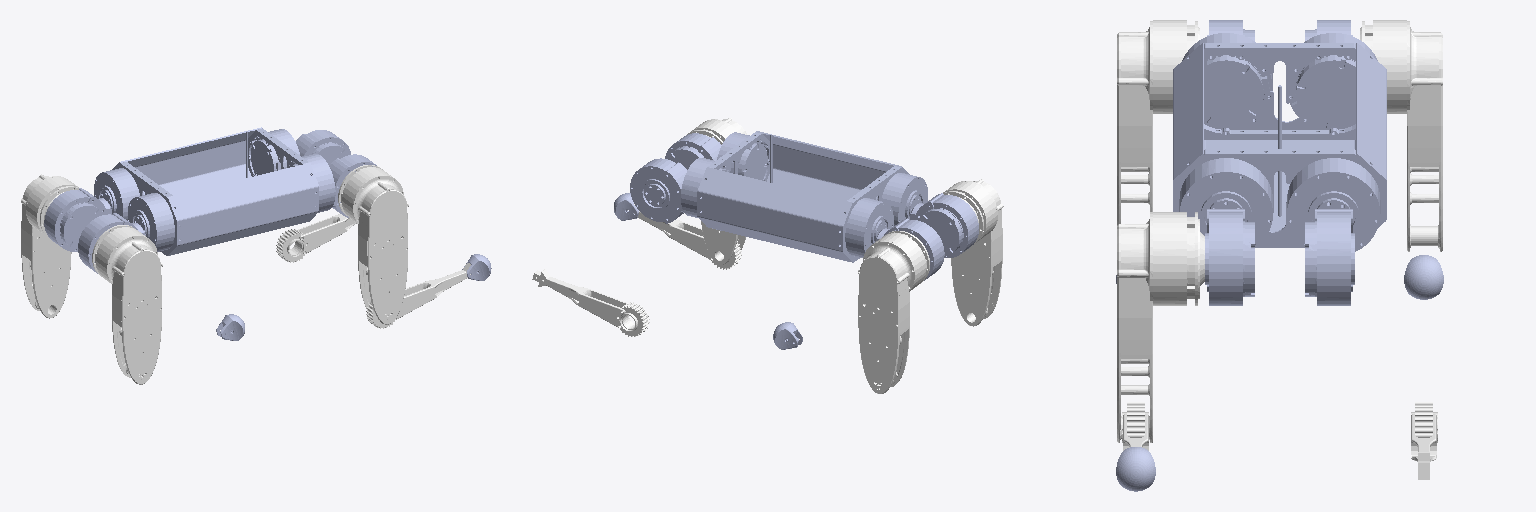
robot.urdf — fanfan:
<?xml version='1.0' encoding='utf-8'?>
<robot name="fanfan">
  <link name="world" />
  <joint name="floating_base" type="floating">
    <parent link="world" />
    <child link="Trunk" />
  </joint>
  <link name="Trunk">
    <inertial>
      <origin xyz="0 0 0.0120765704393" rpy="0 0 0" />
      <mass value="2.76230213761" />
      <inertia ixx="0.0065190710329" ixy="0" ixz="0" iyy="0.0146671285145" iyz="0" izz="0.0173738799354" />
    </inertial>
    <visual>
      <origin xyz="0 0 0.017" rpy="0 0 0" />
      <geometry>
        <mesh filename="meshes/Trunk.STL" />
      </geometry>
      <material name="">
        <color rgba="0.792156862745098 0.819607843137255 0.933333333333333 1" />
      </material>
    </visual>
    <collision>
      <origin xyz="0 0 0.017" rpy="0 0 0" />
      <geometry>
        <box size="0.34 0.095 0.10" />
      </geometry>
    </collision>
  </link>
  <link name="FR_hip">
    <inertial>
      <origin xyz="-0.0044 0.0031 0" rpy="0 0 0" />
      <mass value="0.402084676173" />
      <inertia ixx="0.000211999145512" ixy="0" ixz="0" iyy="0.00030578539623" iyz="0" izz="0.000211999145512" />
    </inertial>
    <visual>
      <origin xyz="0 0 0" rpy="0 0 0" />
      <geometry>
        <mesh filename="meshes/FR_hip.STL" />
      </geometry>
      <material name="">
        <color rgba="0.792156862745098 0.819607843137255 0.933333333333333 1" />
      </material>
    </visual>
    <collision>
      <origin xyz="-0.0044 0.0031 0" rpy="1.57079632679 0 0" />
      <geometry>
        <cylinder radius="0.039" length="0.042" />
      </geometry>
    </collision>
  </link>
  <joint name="FR_hip_joint" type="revolute">
    <origin xyz="0.19 -0.0451 0.00075" rpy="0 0 0" />
    <parent link="Trunk" />
    <child link="FR_hip" />
    <axis xyz="1 0 0" />
    <limit lower="-0.8" upper="0.8" effort="17" velocity="44" />
  </joint>
  <link name="FR_thigh_shoulder">
    <inertial>
      <origin xyz="0 0 0" rpy="0 0 0" />
      <mass value="0.0001" />
      <inertia ixx="1e-8" ixy="0" ixz="0" iyy="1e-8" iyz="0" izz="1e-8" />
    </inertial>
    <collision>
      <origin xyz="0 0 0" rpy="1.57079632679 0 0" />
      <geometry>
        <cylinder radius="0.039" length="0.042" />
      </geometry>
    </collision>
  </link>
  <joint name="FR_hip_fixed" type="fixed">
    <origin xyz="0 -0.0545 0" rpy="0 0 0" />
    <parent link="FR_hip" />
    <child link="FR_thigh_shoulder" />
    <axis xyz="0 0 0" />
  </joint>
  <link name="FR_thigh">
    <inertial>
      <origin xyz="0 0 -0.0845" rpy="0 0 0" />
      <mass value="0.599413010273" />
      <inertia ixx="0.0014716088913" ixy="0" ixz="0" iyy="0.00150657465024" iyz="0" izz="0.000124877710473" />
    </inertial>
    <visual>
      <origin xyz="0 0 0" rpy="0 0 0" />
      <geometry>
        <mesh filename="meshes/FR_thigh.STL" />
      </geometry>
      <material name="">
        <color rgba="1 1 1 1" />
      </material>
    </visual>
    <collision>
      <origin xyz="0 0 -0.0845" rpy="0 1.57079632679 0" />
      <geometry>
        <box size="0.176 0.024 0.030" />
      </geometry>
    </collision>
  </link>
  <joint name="FR_thigh_joint" type="revolute">
    <origin xyz="0 -0.076 0" rpy="0 0 0" />
    <parent link="FR_hip" />
    <child link="FR_thigh" />
    <axis xyz="0 1 0" />
    <limit lower="-0.5" upper="4" effort="17" velocity="44" />
  </joint>
  <link name="FR_calf">
    <inertial>
      <origin xyz="0 -0.0005 -0.075" rpy="0 0 0" />
      <mass value="0.0807981096891" />
      <inertia ixx="0.000153678004629" ixy="0" ixz="0" iyy="0.000153678004629" iyz="0" izz="4.36309792321e-06" />
    </inertial>
    <visual>
      <origin xyz="0 0 0" rpy="0 0 0" />
      <geometry>
        <mesh filename="meshes/FR_calf.STL" />
      </geometry>
      <material name="">
        <color rgba="1 1 1 1" />
      </material>
    </visual>
    <collision>
      <origin xyz="0 -0.0005 -0.075" rpy="0 1.57079632679 0" />
      <geometry>
        <box size="0.158 0.014 0.014" />
      </geometry>
    </collision>
  </link>
  <joint name="FR_calf_joint" type="revolute">
    <origin xyz="0 0.0005 -0.15606" rpy="0 0 0" />
    <parent link="FR_thigh" />
    <child link="FR_calf" />
    <axis xyz="0 1 0" />
    <limit lower="-2.7" upper="-0.85" effort="17" velocity="44" />
  </joint>
  <link name="FR_foot">
    <inertial>
      <origin xyz="0 0 0" rpy="0 0 0" />
      <mass value="0.0376582318027" />
      <inertia ixx="4.88050684164e-06" ixy="0" ixz="0" iyy="4.88050684164e-06" iyz="0" izz="4.88050684164e-06" />
    </inertial>
    <visual>
      <origin xyz="0 0 0" rpy="0 0 0" />
      <geometry>
        <mesh filename="meshes/FR_foot.STL" />
      </geometry>
      <material name="">
        <color rgba="0.792156862745098 0.819607843137255 0.933333333333333 1" />
      </material>
    </visual>
    <collision>
      <origin xyz="0 0 0" rpy="0 0 0" />
      <geometry>
        <sphere radius="0.018" />
      </geometry>
    </collision>
  </link>
  <joint name="FR_foot_fixed" type="fixed">
    <origin xyz="0 0 -0.148941836101256" rpy="0 0 0" />
    <parent link="FR_calf" />
    <child link="FR_foot" />
    <axis xyz="0 0 0" />
  </joint>
  <link name="FL_hip">
    <inertial>
      <origin xyz="-0.0044 -0.0031 0" rpy="0 0 0" />
      <mass value="0.402084676173" />
      <inertia ixx="0.000211999145512" ixy="0" ixz="0" iyy="0.00030578539623" iyz="0" izz="0.000211999145512" />
    </inertial>
    <visual>
      <origin xyz="0 0 0" rpy="0 0 0" />
      <geometry>
        <mesh filename="meshes/FL_hip.STL" />
      </geometry>
      <material name="">
        <color rgba="0.792156862745098 0.819607843137255 0.933333333333333 1" />
      </material>
    </visual>
    <collision>
      <origin xyz="-0.0044 -0.0031 0" rpy="1.57079632679 0 0" />
      <geometry>
        <cylinder radius="0.039" length="0.042" />
      </geometry>
    </collision>
  </link>
  <joint name="FL_hip_joint" type="revolute">
    <origin xyz="0.19 0.0451 0.00075" rpy="0 0 0" />
    <parent link="Trunk" />
    <child link="FL_hip" />
    <axis xyz="1 0 0" />
    <limit lower="-0.8" upper="0.8" effort="17" velocity="44" />
  </joint>
  <link name="FL_thigh_shoulder">
    <inertial>
      <origin xyz="0 0 0" rpy="0 0 0" />
      <mass value="0.0001" />
      <inertia ixx="1e-8" ixy="0" ixz="0" iyy="1e-8" iyz="0" izz="1e-8" />
    </inertial>
    <collision>
      <origin xyz="0 0 0" rpy="1.57079632679 0 0" />
      <geometry>
        <cylinder radius="0.039" length="0.042" />
      </geometry>
    </collision>
  </link>
  <joint name="FL_hip_fixed" type="fixed">
    <origin xyz="0 0.0545 0" rpy="0 0 0" />
    <parent link="FL_hip" />
    <child link="FL_thigh_shoulder" />
    <axis xyz="0 0 0" />
  </joint>
  <link name="FL_thigh">
    <inertial>
      <origin xyz="0 0 -0.0845" rpy="0 0 0" />
      <mass value="0.599405347289" />
      <inertia ixx="0.00147159007804" ixy="0" ixz="0" iyy="0.00150655538996" iyz="0" izz="0.000124876114018" />
    </inertial>
    <visual>
      <origin xyz="0 0 0" rpy="0 0 0" />
      <geometry>
        <mesh filename="meshes/FL_thigh.STL" />
      </geometry>
      <material name="">
        <color rgba="1 1 1 1" />
      </material>
    </visual>
    <collision>
      <origin xyz="0 0 -0.0845" rpy="0 1.57079632679 0" />
      <geometry>
        <box size="0.176 0.024 0.030" />
      </geometry>
    </collision>
  </link>
  <joint name="FL_thigh_joint" type="revolute">
    <origin xyz="0 0.076 0" rpy="0 0 0" />
    <parent link="FL_hip" />
    <child link="FL_thigh" />
    <axis xyz="0 1 0" />
    <limit lower="-0.5" upper="4" effort="17" velocity="44" />
  </joint>
  <link name="FL_calf">
    <inertial>
      <origin xyz="0 0.0005 -0.075" rpy="0 0 0" />
      <mass value="0.0807981096891" />
      <inertia ixx="0.000153678004629" ixy="0" ixz="0" iyy="0.000153678004629" iyz="0" izz="4.36309792321e-06" />
    </inertial>
    <visual>
      <origin xyz="0 0 0" rpy="0 0 0" />
      <geometry>
        <mesh filename="meshes/FL_calf.STL" />
      </geometry>
      <material name="">
        <color rgba="1 1 1 1" />
      </material>
    </visual>
    <collision>
      <origin xyz="0 0.0005 -0.075" rpy="0 1.57079632679 0" />
      <geometry>
        <box size="0.158 0.014 0.014" />
      </geometry>
    </collision>
  </link>
  <joint name="FL_calf_joint" type="revolute">
    <origin xyz="0 -0.0005 -0.15606" rpy="0 0 0" />
    <parent link="FL_thigh" />
    <child link="FL_calf" />
    <axis xyz="0 1 0" />
    <limit lower="-2.7" upper="-0.85" effort="17" velocity="44" />
  </joint>
  <link name="FL_foot">
    <inertial>
      <origin xyz="0 0 0" rpy="0 0 0" />
      <mass value="0.0376582318027" />
      <inertia ixx="4.88050684164e-06" ixy="0" ixz="0" iyy="4.88050684164e-06" iyz="0" izz="4.88050684164e-06" />
    </inertial>
    <visual>
      <origin xyz="0 0 0" rpy="0 0 0" />
      <geometry>
        <mesh filename="meshes/FL_foot.STL" />
      </geometry>
      <material name="">
        <color rgba="0.792156862745098 0.819607843137255 0.933333333333333 1" />
      </material>
    </visual>
    <collision>
      <origin xyz="0 0 0" rpy="0 0 0" />
      <geometry>
        <sphere radius="0.018" />
      </geometry>
    </collision>
  </link>
  <joint name="FL_foot_fixed" type="fixed">
    <origin xyz="0 0 -0.148941836101256" rpy="0 0 0" />
    <parent link="FL_calf" />
    <child link="FL_foot" />
    <axis xyz="0 0 0" />
  </joint>
  <link name="RR_hip">
    <inertial>
      <origin xyz="0.0044 0.0031 0" rpy="0 0 0" />
      <mass value="0.402084676173" />
      <inertia ixx="0.000211999145512" ixy="0" ixz="0" iyy="0.00030578539623" iyz="0" izz="0.000211999145512" />
    </inertial>
    <visual>
      <origin xyz="0 0 0" rpy="0 0 0" />
      <geometry>
        <mesh filename="meshes/RR_hip.STL" />
      </geometry>
      <material name="">
        <color rgba="0.792156862745098 0.819607843137255 0.933333333333333 1" />
      </material>
    </visual>
    <collision>
      <origin xyz="0.0044 0.0031 0" rpy="1.57079632679 0 0" />
      <geometry>
        <cylinder radius="0.039" length="0.042" />
      </geometry>
    </collision>
  </link>
  <joint name="RR_hip_joint" type="revolute">
    <origin xyz="-0.19 -0.0451 0.00075" rpy="0 0 0" />
    <parent link="Trunk" />
    <child link="RR_hip" />
    <axis xyz="1 0 0" />
    <limit lower="-0.8" upper="0.8" effort="17" velocity="44" />
  </joint>
  <link name="RR_thigh_shoulder">
    <inertial>
      <origin xyz="0 0 0" rpy="0 0 0" />
      <mass value="0.0001" />
      <inertia ixx="1e-8" ixy="0" ixz="0" iyy="1e-8" iyz="0" izz="1e-8" />
    </inertial>
    <collision>
      <origin xyz="0 0 0" rpy="1.57079632679 0 0" />
      <geometry>
        <cylinder radius="0.039" length="0.042" />
      </geometry>
    </collision>
  </link>
  <joint name="RR_hip_fixed" type="fixed">
    <origin xyz="0 -0.0545 0" rpy="0 0 0" />
    <parent link="RR_hip" />
    <child link="RR_thigh_shoulder" />
    <axis xyz="0 0 0" />
  </joint>
  <link name="RR_thigh">
    <inertial>
      <origin xyz="0 0 -0.0845" rpy="0 0 0" />
      <mass value="0.599413010273" />
      <inertia ixx="0.0014716088913" ixy="0" ixz="0" iyy="0.00150657465024" iyz="0" izz="0.000124877710473" />
    </inertial>
    <visual>
      <origin xyz="0 0 0" rpy="0 0 0" />
      <geometry>
        <mesh filename="meshes/RR_thigh.STL" />
      </geometry>
      <material name="">
        <color rgba="1 1 1 1" />
      </material>
    </visual>
    <collision>
      <origin xyz="0 0 -0.0845" rpy="0 1.57079632679 0" />
      <geometry>
        <box size="0.176 0.024 0.030" />
      </geometry>
    </collision>
  </link>
  <joint name="RR_thigh_joint" type="revolute">
    <origin xyz="0 -0.076 0" rpy="0 0 0" />
    <parent link="RR_hip" />
    <child link="RR_thigh" />
    <axis xyz="0 1 0" />
    <limit lower="-0.5" upper="4" effort="17" velocity="44" />
  </joint>
  <link name="RR_calf">
    <inertial>
      <origin xyz="0 -0.0005 -0.075" rpy="0 0 0" />
      <mass value="0.0807981096891" />
      <inertia ixx="0.000153678004629" ixy="0" ixz="0" iyy="0.000153678004629" iyz="0" izz="4.36309792321e-06" />
    </inertial>
    <visual>
      <origin xyz="0 0 0" rpy="0 0 0" />
      <geometry>
        <mesh filename="meshes/RR_calf.STL" />
      </geometry>
      <material name="">
        <color rgba="1 1 1 1" />
      </material>
    </visual>
    <collision>
      <origin xyz="0 -0.0005 -0.075" rpy="0 1.57079632679 0" />
      <geometry>
        <box size="0.158 0.014 0.014" />
      </geometry>
    </collision>
  </link>
  <joint name="RR_calf_joint" type="revolute">
    <origin xyz="0 0.0005 -0.15606" rpy="0 0 0" />
    <parent link="RR_thigh" />
    <child link="RR_calf" />
    <axis xyz="0 1 0" />
    <limit lower="-2.7" upper="-0.85" effort="17" velocity="44" />
  </joint>
  <link name="RR_foot">
    <inertial>
      <origin xyz="0 0 0" rpy="0 0 0" />
      <mass value="0.0376582318027" />
      <inertia ixx="4.88050684164e-06" ixy="0" ixz="0" iyy="4.88050684164e-06" iyz="0" izz="4.88050684164e-06" />
    </inertial>
    <visual>
      <origin xyz="0 0 0" rpy="0 0 0" />
      <geometry>
        <mesh filename="meshes/RR_foot.STL" />
      </geometry>
      <material name="">
        <color rgba="0.792156862745098 0.819607843137255 0.933333333333333 1" />
      </material>
    </visual>
    <collision>
      <origin xyz="0 0 0" rpy="0 0 0" />
      <geometry>
        <sphere radius="0.018" />
      </geometry>
    </collision>
  </link>
  <joint name="RR_foot_fixed" type="fixed">
    <origin xyz="0 0 -0.14894" rpy="0 0 0" />
    <parent link="RR_calf" />
    <child link="RR_foot" />
    <axis xyz="0 0 0" />
  </joint>
  <link name="RL_hip">
    <inertial>
      <origin xyz="0.0044 -0.0031 0" rpy="0 0 0" />
      <mass value="0.402084676173" />
      <inertia ixx="0.000211999145512" ixy="0" ixz="0" iyy="0.00030578539623" iyz="0" izz="0.000211999145512" />
    </inertial>
    <visual>
      <origin xyz="0 0 0" rpy="0 0 0" />
      <geometry>
        <mesh filename="meshes/RL_hip.STL" />
      </geometry>
      <material name="">
        <color rgba="0.792156862745098 0.819607843137255 0.933333333333333 1" />
      </material>
    </visual>
    <collision>
      <origin xyz="0.0044 -0.0031 0" rpy="1.57079632679 0 0" />
      <geometry>
        <cylinder radius="0.039" length="0.042" />
      </geometry>
    </collision>
  </link>
  <joint name="RL_hip_joint" type="revolute">
    <origin xyz="-0.19 0.0451 0.00075" rpy="0 0 0" />
    <parent link="Trunk" />
    <child link="RL_hip" />
    <axis xyz="1 0 0" />
    <limit lower="-0.8" upper="0.8" effort="17" velocity="44" />
  </joint>
  <link name="RL_thigh_shoulder">
    <inertial>
      <origin xyz="0 0 0" rpy="0 0 0" />
      <mass value="0.0001" />
      <inertia ixx="1e-8" ixy="0" ixz="0" iyy="1e-8" iyz="0" izz="1e-8" />
    </inertial>
    <collision>
      <origin xyz="0 0 0" rpy="1.57079632679 0 0" />
      <geometry>
        <cylinder radius="0.039" length="0.042" />
      </geometry>
    </collision>
  </link>
  <joint name="RL_hip_fixed" type="fixed">
    <origin xyz="0 0.0545 0" rpy="0 0 0" />
    <parent link="RL_hip" />
    <child link="RL_thigh_shoulder" />
    <axis xyz="0 0 0" />
  </joint>
  <link name="RL_thigh">
    <inertial>
      <origin xyz="0 0 -0.0845" rpy="0 0 0" />
      <mass value="0.599405347289" />
      <inertia ixx="0.00147159007804" ixy="0" ixz="0" iyy="0.00150655538996" iyz="0" izz="0.000124876114018" />
    </inertial>
    <visual>
      <origin xyz="0 0 0" rpy="0 0 0" />
      <geometry>
        <mesh filename="meshes/RL_thigh.STL" />
      </geometry>
      <material name="">
        <color rgba="1 1 1 1" />
      </material>
    </visual>
    <collision>
      <origin xyz="0 0 -0.0845" rpy="0 1.57079632679 0" />
      <geometry>
        <box size="0.176 0.024 0.030" />
      </geometry>
    </collision>
  </link>
  <joint name="RL_thigh_joint" type="revolute">
    <origin xyz="0 0.076 0" rpy="0 0 0" />
    <parent link="RL_hip" />
    <child link="RL_thigh" />
    <axis xyz="0 1 0" />
    <limit lower="-0.5" upper="4" effort="17" velocity="44" />
  </joint>
  <link name="RL_calf">
    <inertial>
      <origin xyz="0 0.0005 -0.075" rpy="0 0 0" />
      <mass value="0.0807981096891" />
      <inertia ixx="0.000153678004629" ixy="0" ixz="0" iyy="0.000153678004629" iyz="0" izz="4.36309792321e-06" />
    </inertial>
    <visual>
      <origin xyz="0 0 0" rpy="0 0 0" />
      <geometry>
        <mesh filename="meshes/RL_calf.STL" />
      </geometry>
      <material name="">
        <color rgba="1 1 1 1" />
      </material>
    </visual>
    <collision>
      <origin xyz="0 0.0005 -0.075" rpy="0 1.57079632679 0" />
      <geometry>
        <box size="0.158 0.014 0.014" />
      </geometry>
    </collision>
  </link>
  <joint name="RL_calf_joint" type="revolute">
    <origin xyz="0 -0.0005 -0.15606" rpy="0 0 0" />
    <parent link="RL_thigh" />
    <child link="RL_calf" />
    <axis xyz="0 1 0" />
    <limit lower="-2.7" upper="-0.85" effort="17" velocity="44" />
  </joint>
  <link name="RL_foot">
    <inertial>
      <origin xyz="0 0 0" rpy="0 0 0" />
      <mass value="0.0376582318027" />
      <inertia ixx="4.88050684164e-06" ixy="0" ixz="0" iyy="4.88050684164e-06" iyz="0" izz="4.88050684164e-06" />
    </inertial>
    <visual>
      <origin xyz="0 0 0" rpy="0 0 0" />
      <geometry>
        <mesh filename="meshes/RL_foot.STL" />
      </geometry>
      <material name="">
        <color rgba="0.792156862745098 0.819607843137255 0.933333333333333 1" />
      </material>
    </visual>
    <collision>
      <origin xyz="0 0 0" rpy="0 0 0" />
      <geometry>
        <sphere radius="0.018" />
      </geometry>
    </collision>
  </link>
  <joint name="RL_foot_fixed" type="fixed">
    <origin xyz="0 0 -0.14894" rpy="0 0 0" />
    <parent link="RL_calf" />
    <child link="RL_foot" />
    <axis xyz="0 0 0" />
  </joint>
  <link name="imu_link">
    <inertial>
      <origin xyz="0 0 0" rpy="0 0 0" />
      <mass value="5.54081439677e-05" />
      <inertia ixx="9.23469066128e-11" ixy="0" ixz="0" iyy="9.23469066128e-11" iyz="0" izz="1.4775505058e-10" />
    </inertial>
    <visual>
      <origin xyz="0 0 0" rpy="0 0 0" />
      <geometry>
        <mesh filename="meshes/imu_link.STL" />
      </geometry>
      <material name="">
        <color rgba="0.792156862745098 0.819607843137255 0.933333333333333 1" />
      </material>
    </visual>
    <collision>
      <origin xyz="0 0 0" rpy="0 0 0" />
      <geometry>
        <box size="0.004 0.004 0.002" />
      </geometry>
    </collision>
  </link>
  <joint name="imu_fixed" type="fixed">
    <origin xyz="0 0 0" rpy="0 0 0" />
    <parent link="Trunk" />
    <child link="imu_link" />
    <axis xyz="0 0 0" />
  </joint>
</robot>

--- Render facts (derived) ---
3 views of the same robot in one strip: view 1: azimuth 30°, elevation 25°; view 2: azimuth 150°, elevation 25°; view 3: azimuth 270°, elevation 25° (orthographic).
Robot: fanfan — 23 links, 22 joints (12 revolute, 9 fixed, 1 floating); root link world; default pose: all joints at 0 but 4 set to mid-range because 0 is outside their limits (FR_calf_joint = -1.77, FL_calf_joint = -1.77, RR_calf_joint = -1.77, RL_calf_joint = -1.77).
Links seen in each view (by area): view 1: Trunk, RR_thigh, FR_thigh, RL_thigh, RL_hip, FL_calf, FR_calf, FL_hip, RR_hip, FR_hip, RR_foot, FR_foot; view 2: Trunk, RL_thigh, RR_thigh, FL_hip, RR_hip, FL_calf, FR_thigh, FR_calf, FR_hip, RL_hip, RL_foot; view 3: Trunk, FR_thigh, RL_thigh, RR_thigh, FR_hip, FL_hip, FL_calf, RL_foot, FR_foot, FR_calf, RR_hip, RL_hip.
Link boxes in pixels (box(x1,y1,x2,y2)): Trunk: box(94, 127, 335, 255); RR_thigh: box(92, 225, 162, 384); FR_thigh: box(338, 165, 408, 324); RL_thigh: box(21, 174, 78, 318); RL_hip: box(44, 188, 111, 251); FL_calf: box(276, 214, 356, 262); FR_calf: box(366, 263, 470, 328); FL_hip: box(296, 130, 350, 165); RR_hip: box(78, 213, 145, 273); FR_hip: box(329, 154, 376, 217); RR_foot: box(216, 314, 244, 340); FR_foot: box(462, 254, 491, 280); Trunk: box(681, 131, 927, 262); RL_thigh: box(858, 231, 929, 393); RR_thigh: box(943, 179, 1003, 326); FL_hip: box(630, 158, 686, 223); RR_hip: box(910, 193, 978, 257); FL_calf: box(532, 269, 649, 336); FR_thigh: box(687, 118, 746, 264); FR_calf: box(628, 204, 741, 269); FR_hip: box(665, 133, 721, 169); RL_hip: box(875, 218, 944, 280); RL_foot: box(773, 322, 802, 349); Trunk: box(1173, 33, 1386, 251); FR_thigh: box(1117, 212, 1204, 442); RL_thigh: box(1360, 20, 1442, 251); RR_thigh: box(1117, 20, 1199, 224); FR_hip: box(1205, 209, 1254, 305); FL_hip: box(1305, 209, 1354, 305); FL_calf: box(1411, 402, 1437, 479); RL_foot: box(1404, 255, 1443, 299); FR_foot: box(1116, 447, 1155, 491); FR_calf: box(1122, 402, 1148, 450); RR_hip: box(1207, 20, 1254, 40); RL_hip: box(1305, 20, 1352, 40).
Bounding box of the posed robot: 0.5841 × 0.2745 × 0.2722 m (x, y, z).
13 mesh visuals loaded from 18 distinct referenced files (13 binary STL); not drawn: 5 (reference not matched to a file when rendering).
